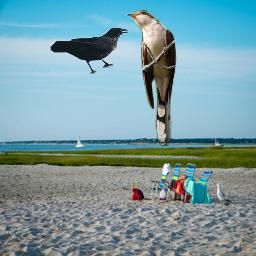Crow: (50, 27, 129, 74)
Cuckoo: (126, 10, 177, 146)
